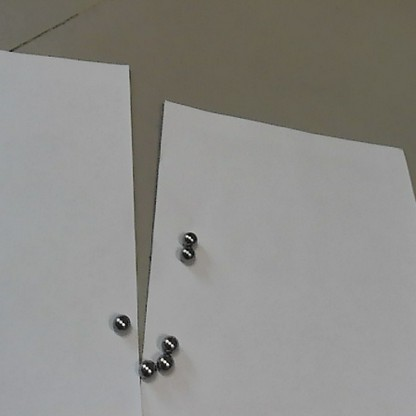ironball: (139, 360, 155, 377), (114, 313, 129, 331), (162, 334, 175, 352), (157, 355, 173, 369), (183, 229, 196, 246), (183, 248, 194, 260)
